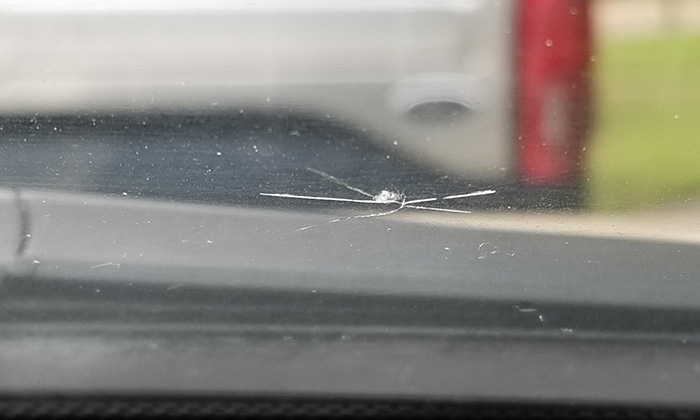scratch: (253, 182, 525, 223)
